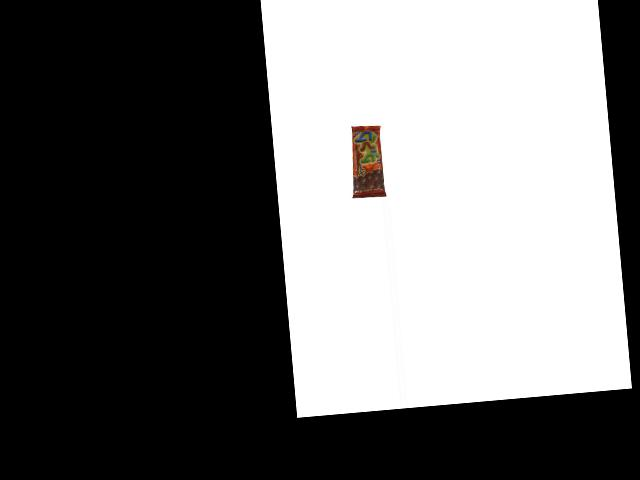chocolate: (347, 123, 386, 199)
